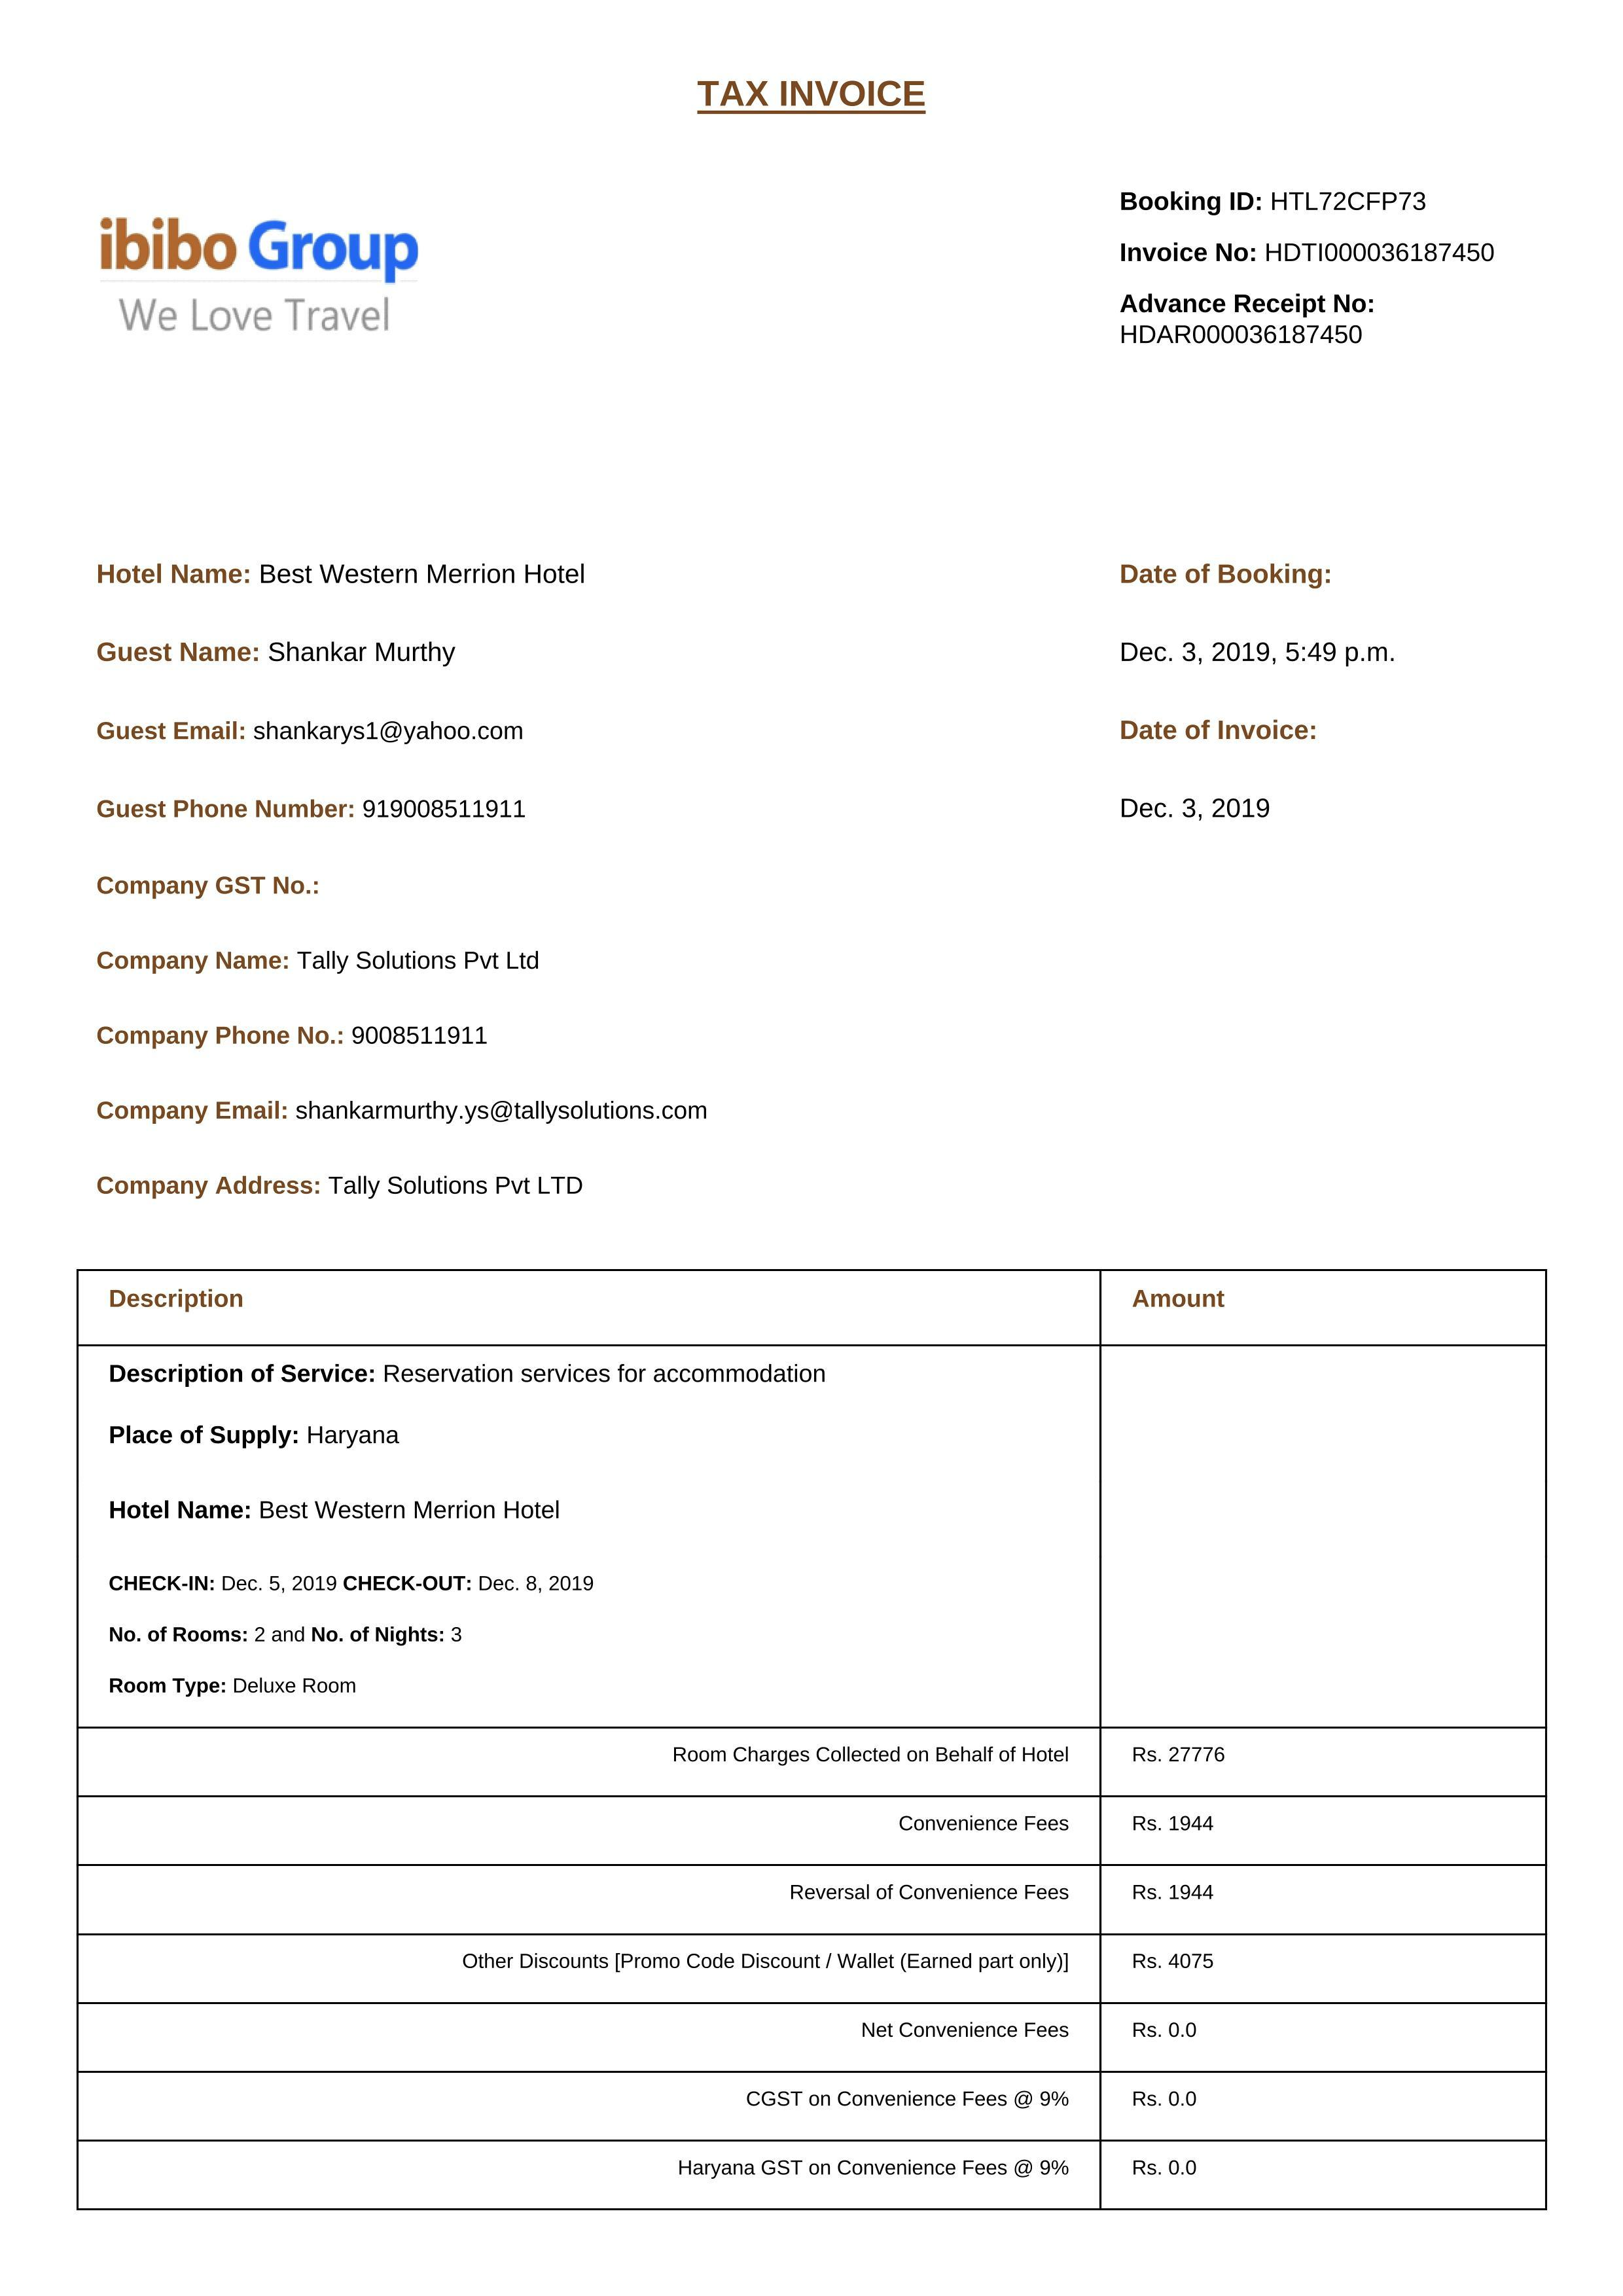InvoiceDate: (1107, 771, 1279, 841)
InvoiceNumber: (1259, 234, 1502, 272)
TotalAmount: (1122, 1734, 1247, 1778)
